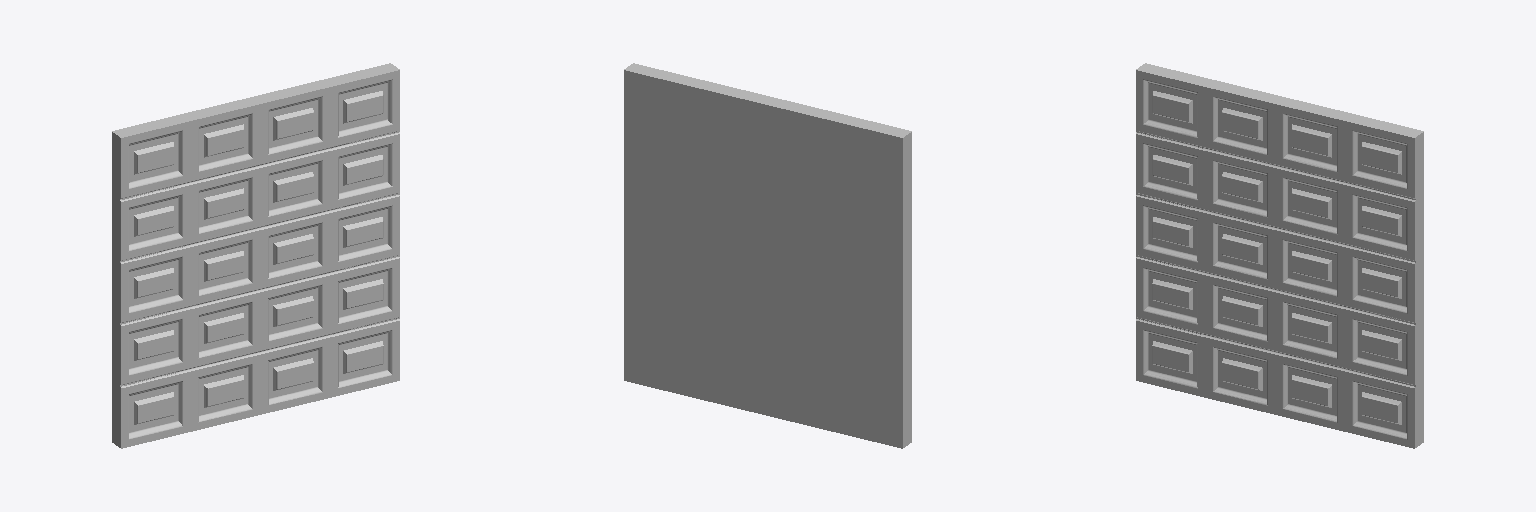
File: puertagarage.obj
3 renders of one model, left to right at view 1: azimuth 30°, elevation 25°; view 2: azimuth 150°, elevation 25°; view 3: azimuth 330°, elevation 25°, orthographic.
Parts seen in each view (by area): view 1: group puertagarage:Box001Gate1, puertagarage:Box001Gate group; view 2: group puertagarage:Box001Gate1, puertagarage:Box001Gate group; view 3: group puertagarage:Box001Gate1, puertagarage:Box001Gate group.
Boxes of the visible parts, box(x1,y1,x2,y2) form: group puertagarage:Box001Gate1: box(112, 63, 399, 448); puertagarage:Box001Gate group: box(114, 65, 396, 447); group puertagarage:Box001Gate1: box(624, 63, 911, 448); puertagarage:Box001Gate group: box(633, 63, 911, 446); group puertagarage:Box001Gate1: box(1136, 63, 1423, 448); puertagarage:Box001Gate group: box(1139, 65, 1421, 436).
Bounding box in the file's own units: 2.91 × 3.1 × 0.1712.